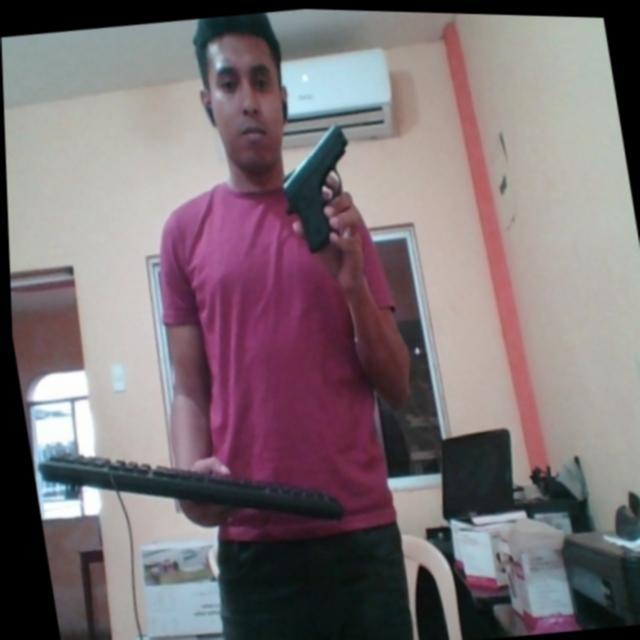weapon: (264, 111, 371, 269)
